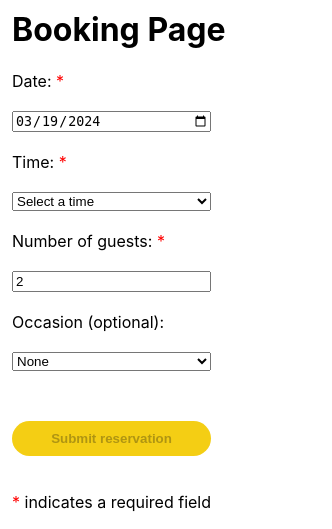
Test case: BookingForm submit button should be disabled with valid time and 20 guests
Select "17:00" in the dropdown with test id "TimeCombo" at (112, 202), box left=12, top=192, right=211, bottom=211
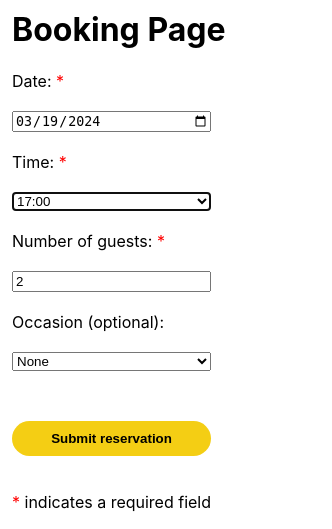
Type "20" into the number field labelled "Number of guests".
click(112, 282); type("20")  # box left=12, top=271, right=211, bottom=292
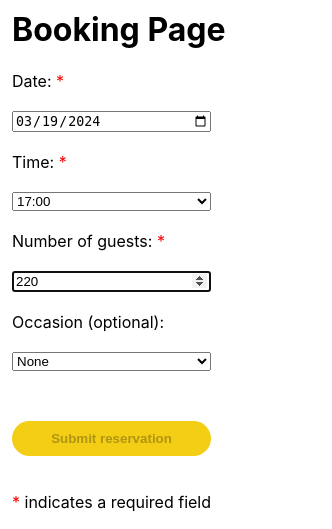
Expected: the button with aria-label "On Click" is disabled, left=12, top=421, right=211, bottom=456
